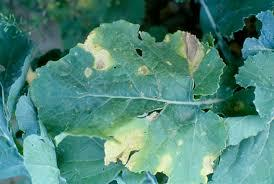Bok-Choy-Diseased: (45, 29, 210, 102)
